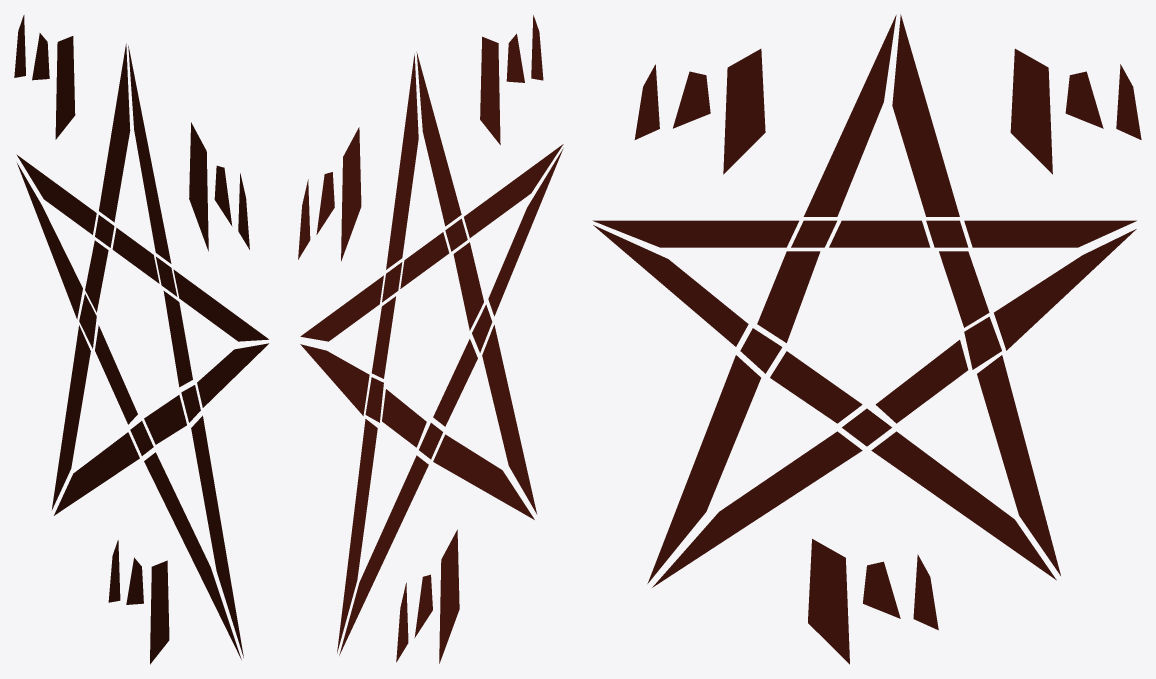
The model's file is obj_mystical_wall_chart_0.obj.
The picture shows the model from 3 angles, left to right: view 1: azimuth 30°, elevation 25°; view 2: azimuth 150°, elevation 25°; view 3: azimuth 270°, elevation 25°; orthographic projection. The views are drawn at different scales.
Bounding box in the file's own units: 0 × 1.33 × 1.02.
